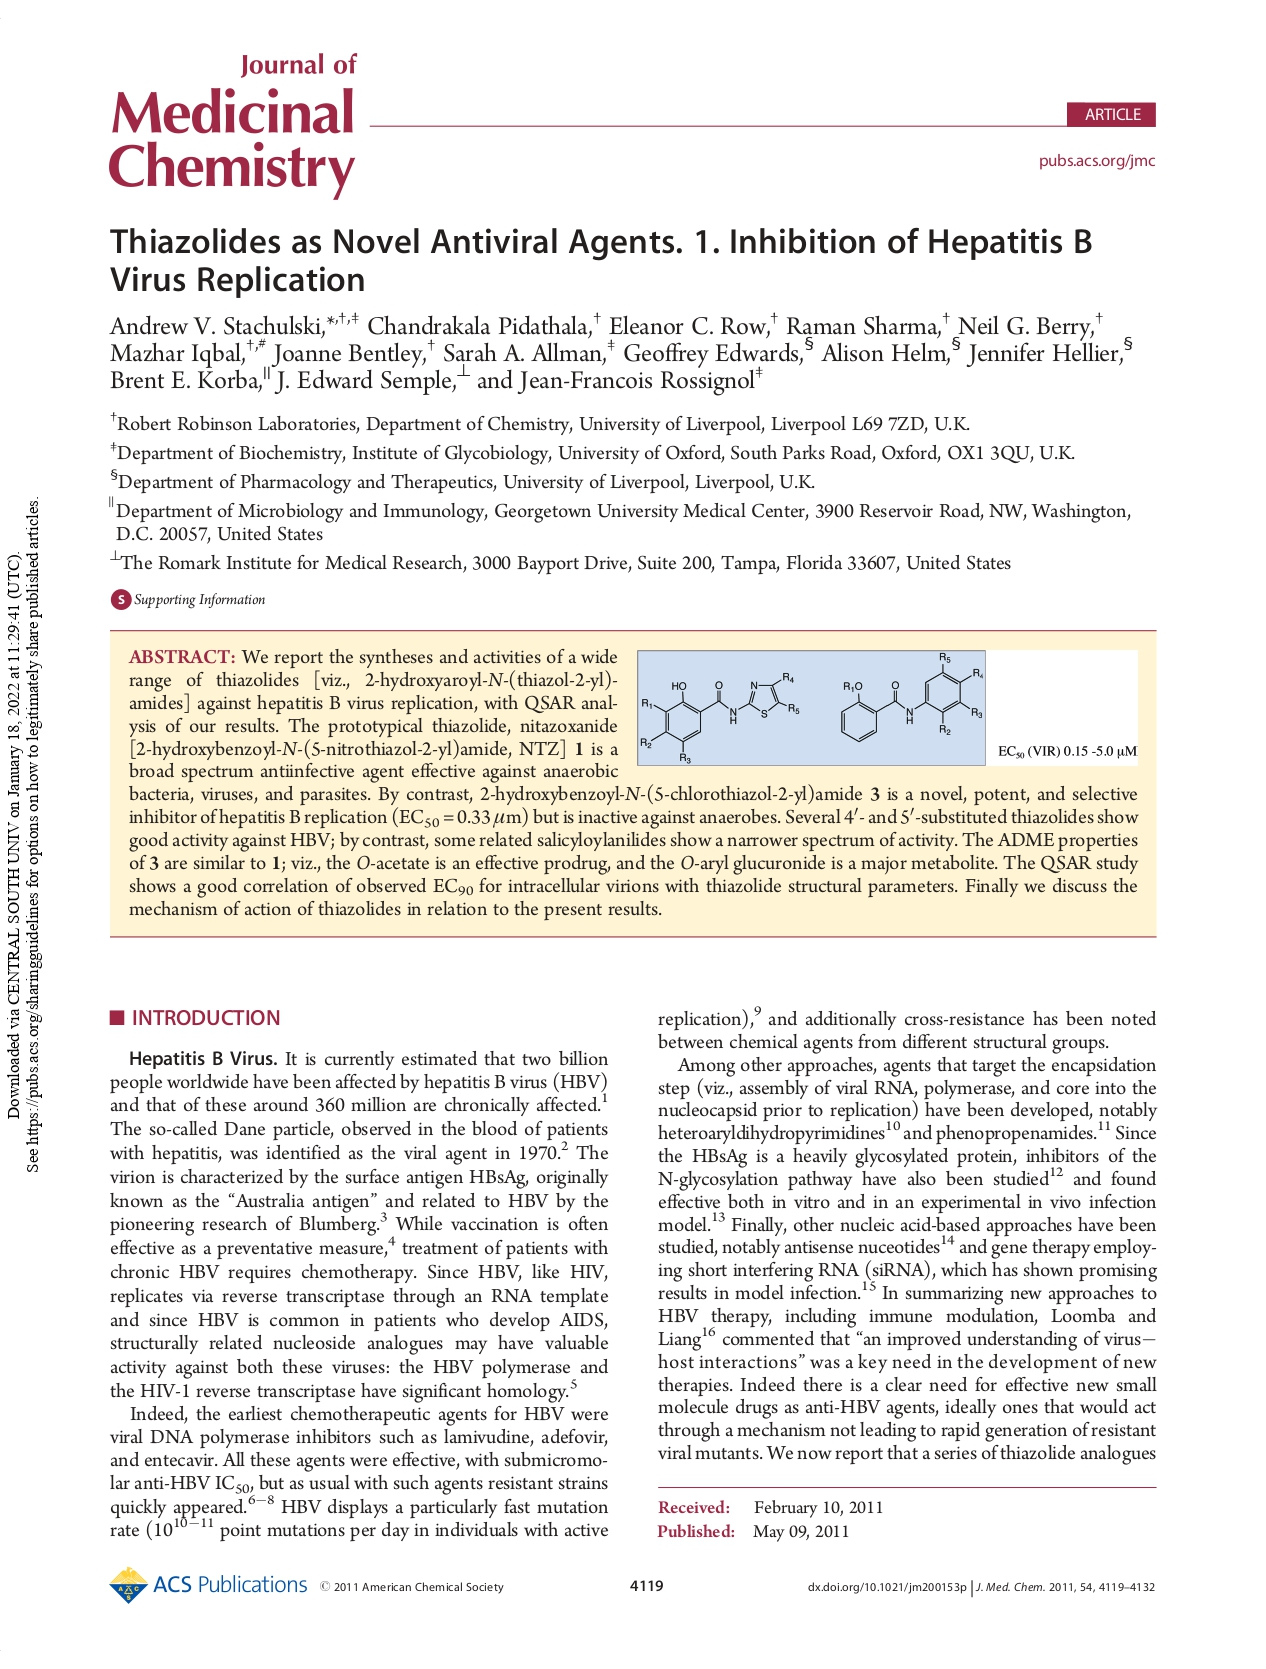exist_molecular: (640, 668, 803, 763), (836, 650, 985, 745)
